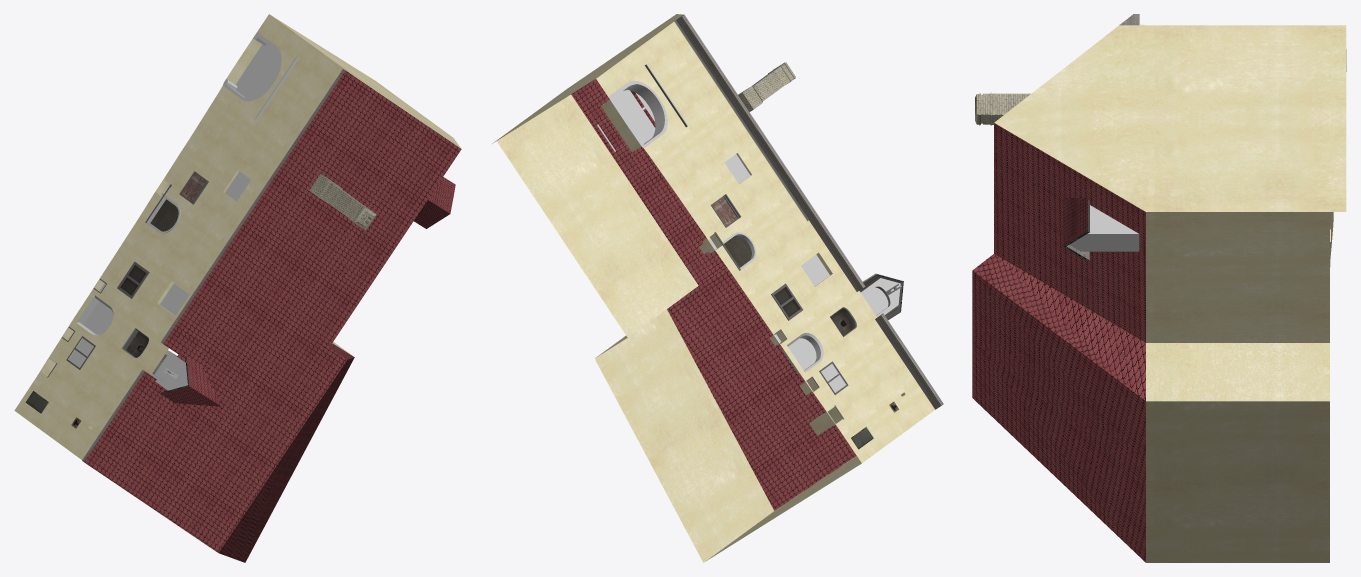
File: Sauna10.obj
3 views of the same model, side by side, from view 1: azimuth 30°, elevation 25°; view 2: azimuth 150°, elevation 25°; view 3: azimuth 270°, elevation 25° (orthographic). The views are drawn at different scales.
Visible parts, largest first — view 1: HOUSE_2011_01_04___002; view 2: HOUSE_2011_01_04___002; view 3: HOUSE_2011_01_04___002.
Part boxes in pixels (bbox=[...]): HOUSE_2011_01_04___002: bbox=[14, 14, 461, 562]; HOUSE_2011_01_04___002: bbox=[492, 14, 943, 562]; HOUSE_2011_01_04___002: bbox=[972, 14, 1346, 562].
Size of the model in its own units: 22.97 by 27.72 by 15.44.
